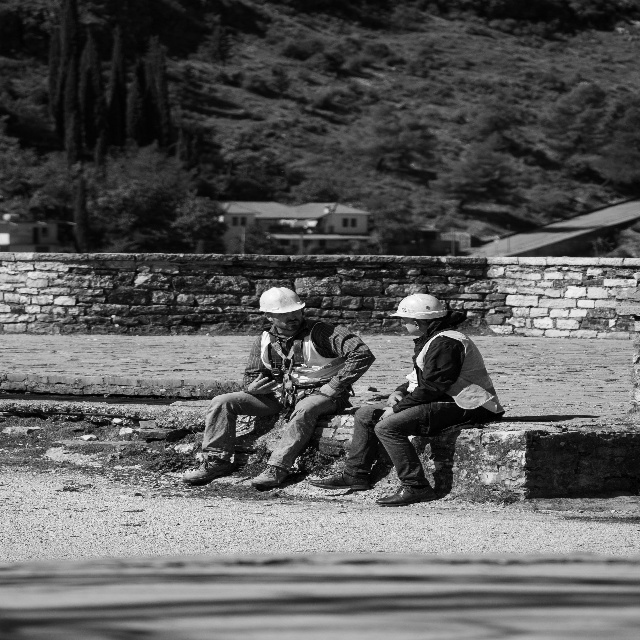Sin_guantes: (248, 372, 280, 395), (387, 389, 405, 407), (319, 383, 340, 398), (378, 405, 395, 421)
